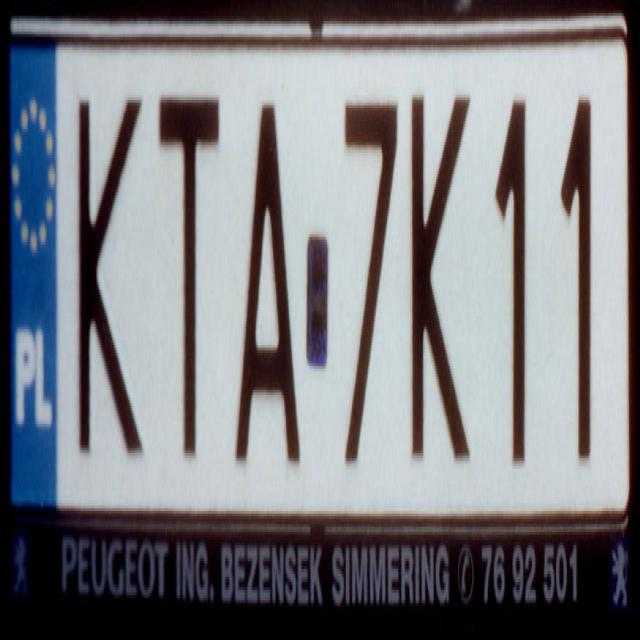pl_license_plate: (9, 40, 628, 516)
